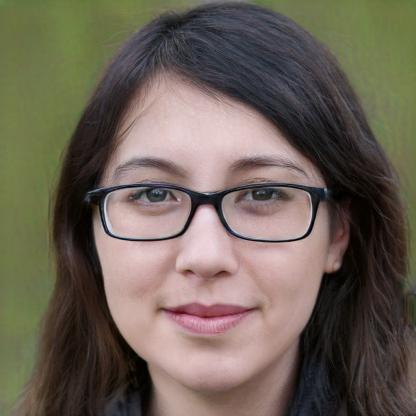glasses: (86, 178, 328, 249)
